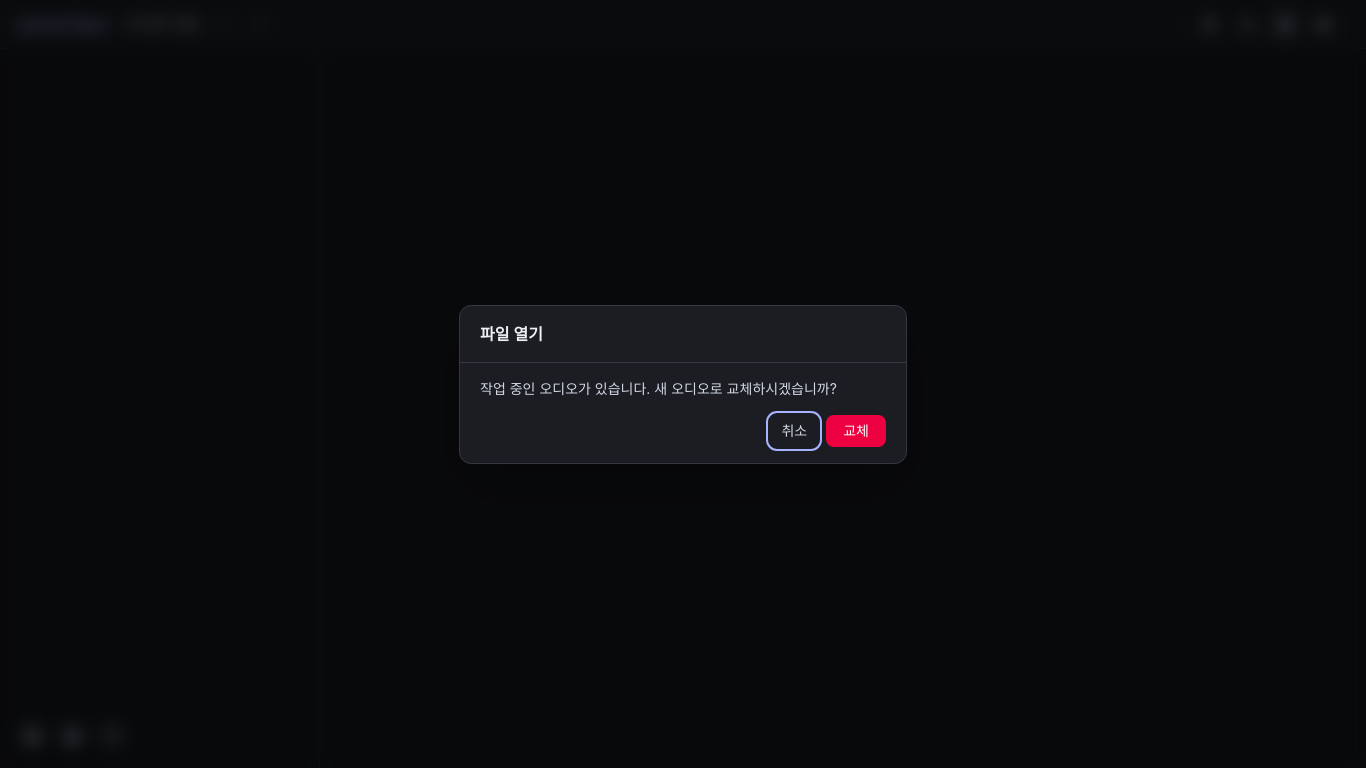
Test: App — drag-and-drop conflict resolution › dismisses without applying when the conflict is cancelled
Expected: the text "작업 중인 오디오가 있습니다. 새 오디오로 교체하시겠습니까?" is shown, [480, 378, 886, 398]
Click the button "취소".
click(794, 430)  # box [770, 414, 818, 446]
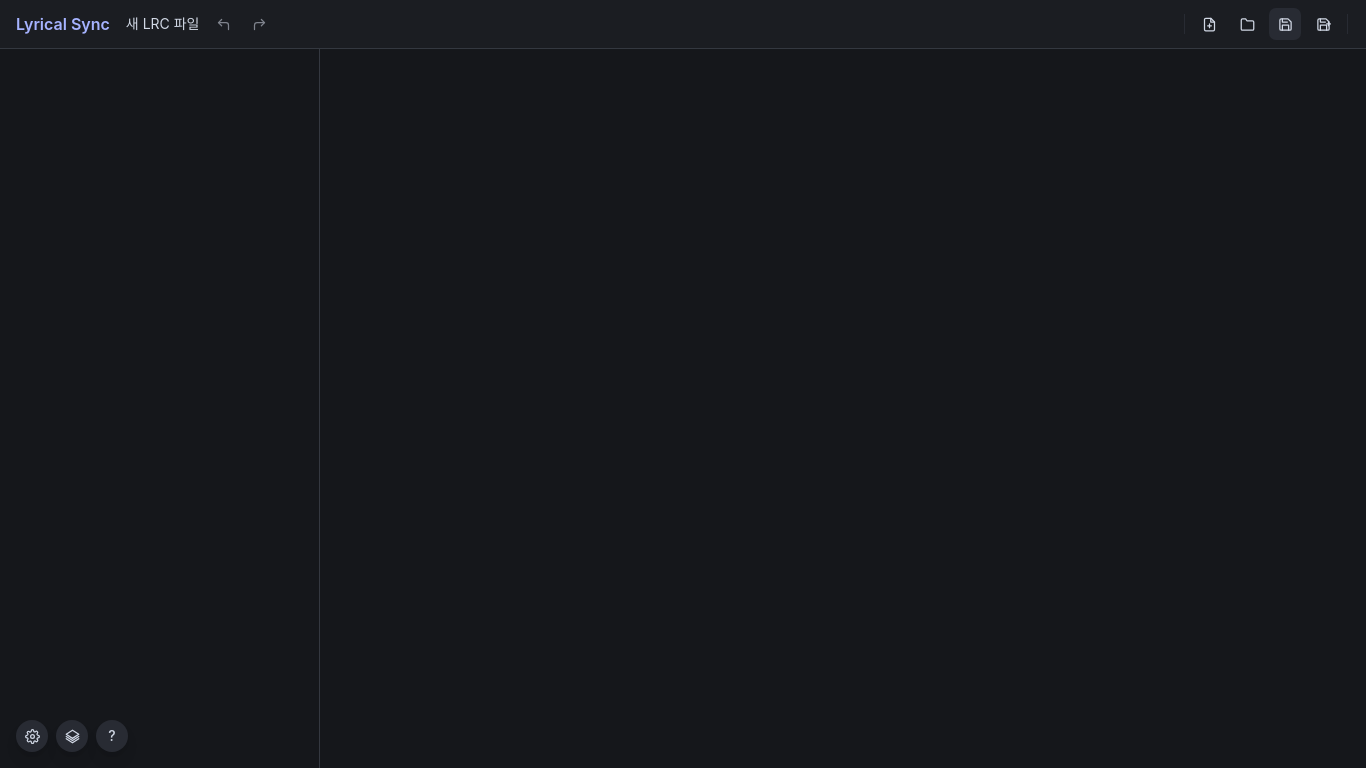
Now the text "작업 중인 오디오가 있습니다. 새 오디오로 교체하시겠습니까?" is gone
